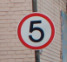speed_limit_5: (16, 12, 56, 50)
